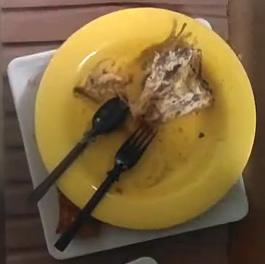chicken: (131, 48, 213, 123)
